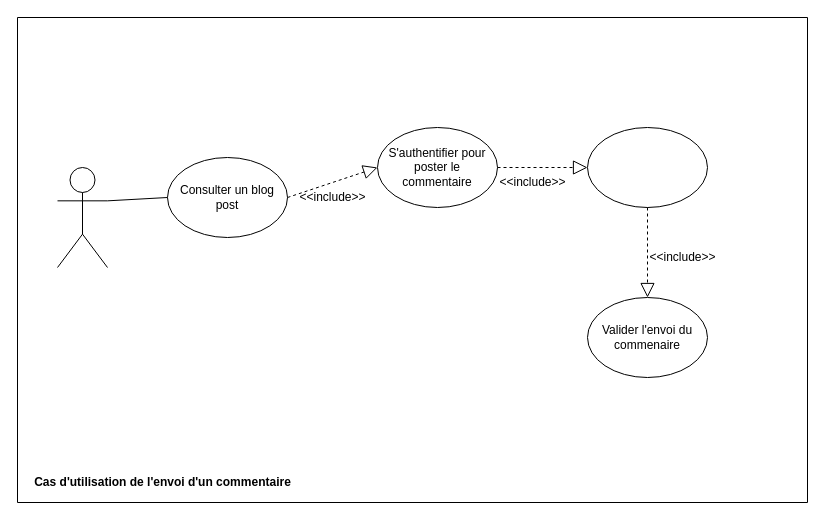
Some shapes in this 825 by 520 pixel diagram are drawn without their labels. Here are the shapes that lost their labels. From the top down, the centre of each, then its label:
At (647,167): "Rédiger le commentaire".
At (82,217): "Utilisateur".
